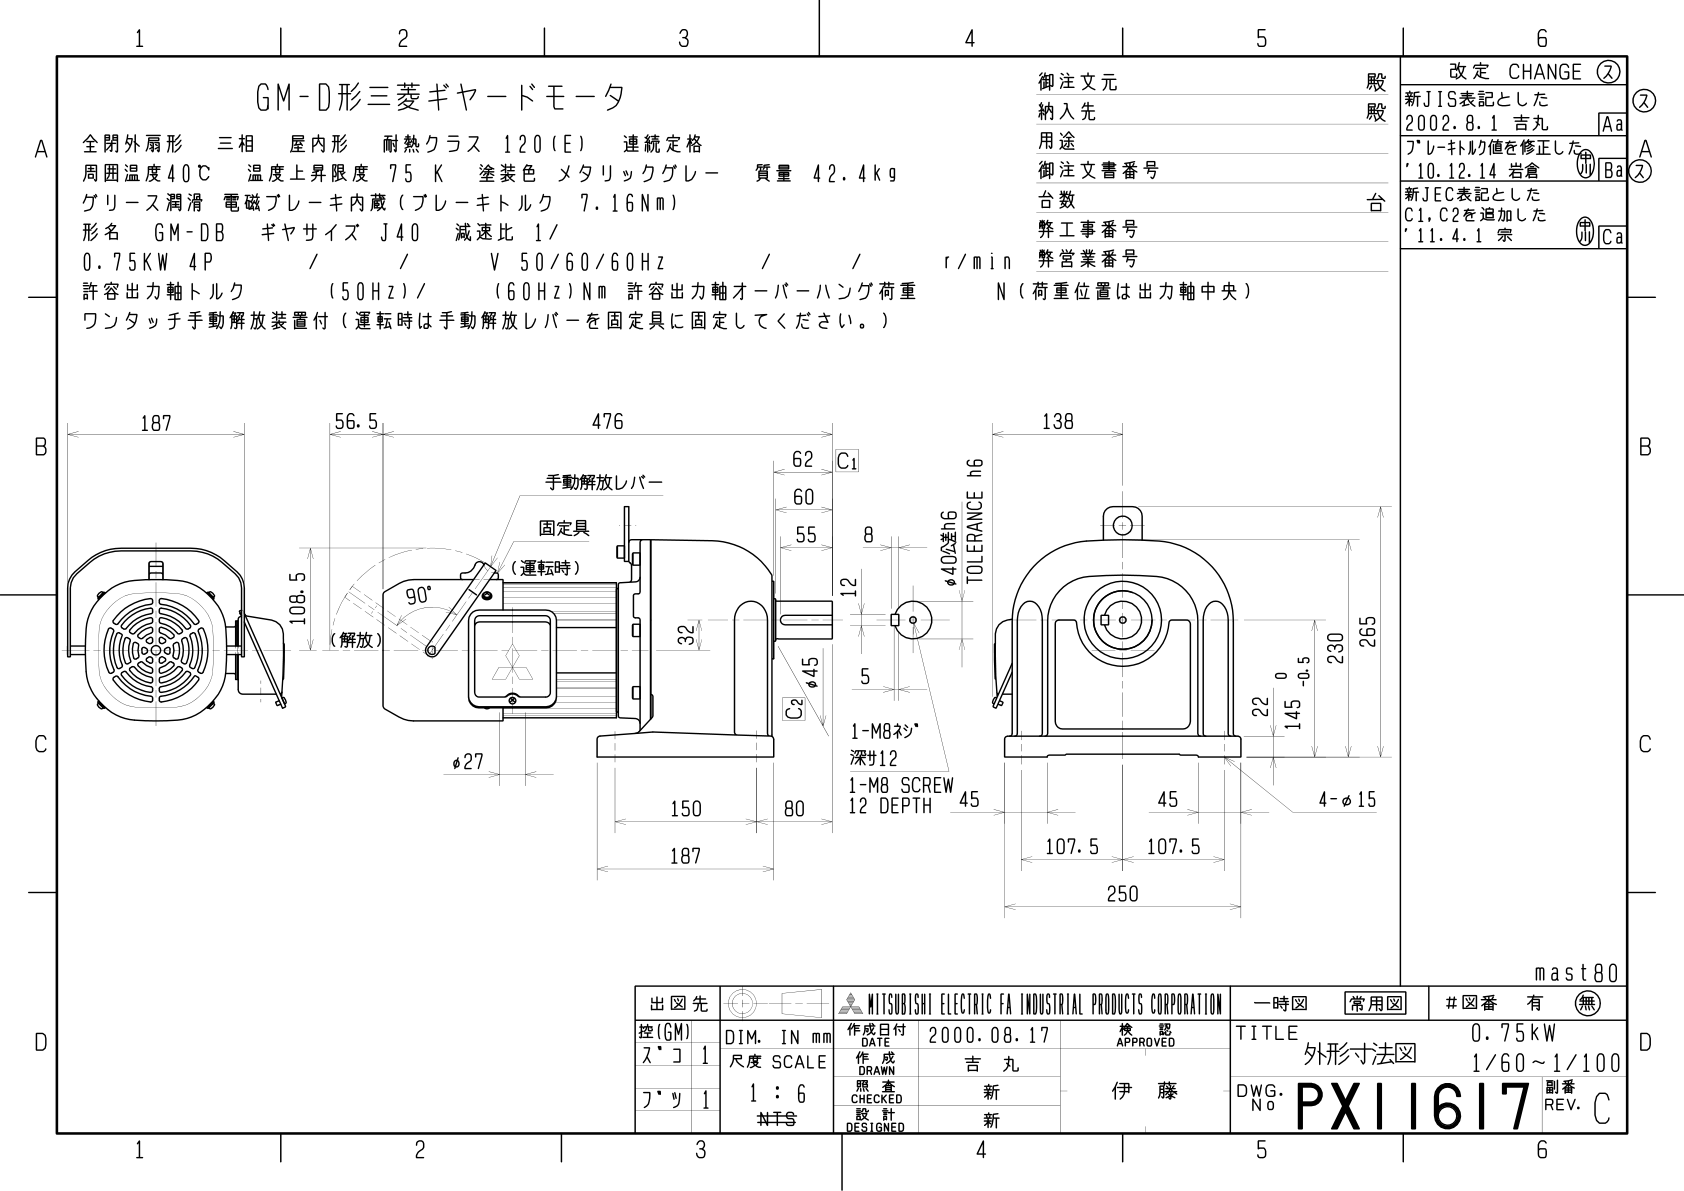GM_D_手動解放ブレーキ＿三相_脚: (12, 6, 1684, 1191)
